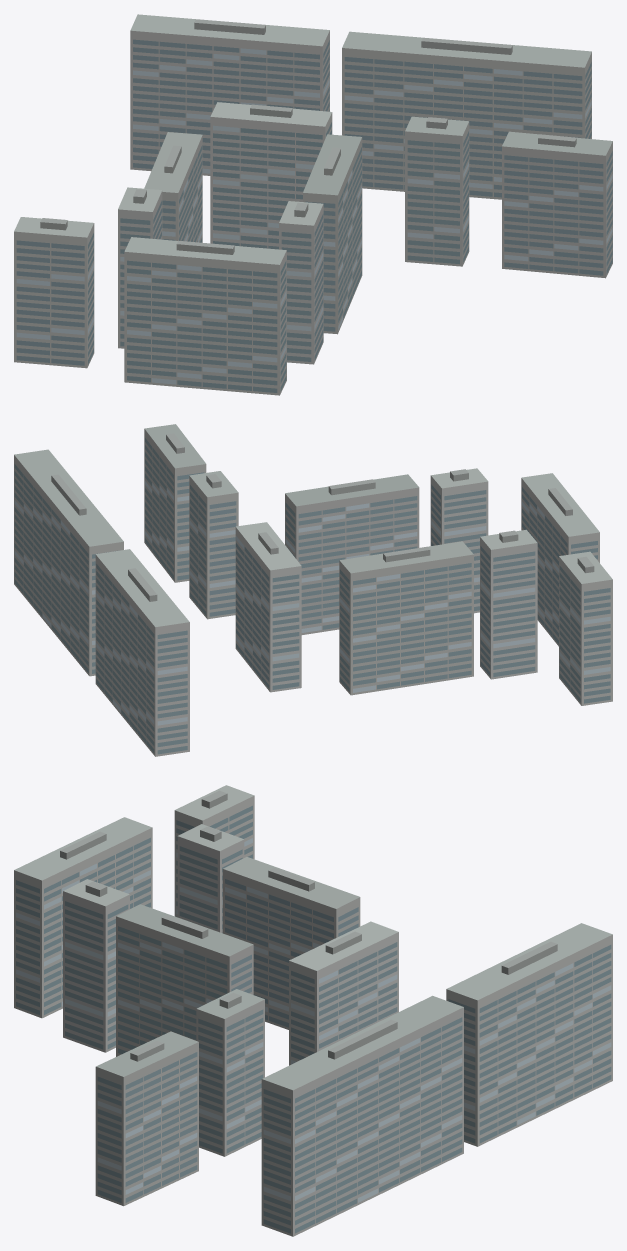
File: apt-a12187602.glb
3 renders of one model, top to bottom at view 1: azimuth 30°, elevation 25°; view 2: azimuth 150°, elevation 25°; view 3: azimuth 270°, elevation 25°, orthographic. The views are drawn at different scales.
Parts seen in each view (by area): view 1: apt-a12187602; view 2: apt-a12187602; view 3: apt-a12187602.
Boxes of the visible parts, x1,y1,x2,y2 form: apt-a12187602: (14, 14, 612, 395); apt-a12187602: (14, 424, 612, 756); apt-a12187602: (14, 785, 612, 1236).
Size of the model in its own units: 224 by 51 by 181.
